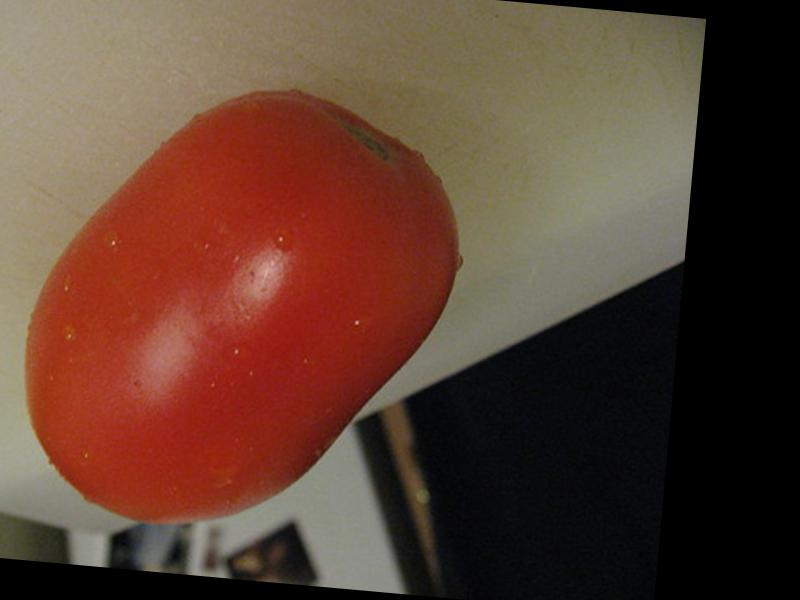Tomato: (12, 72, 472, 549)
